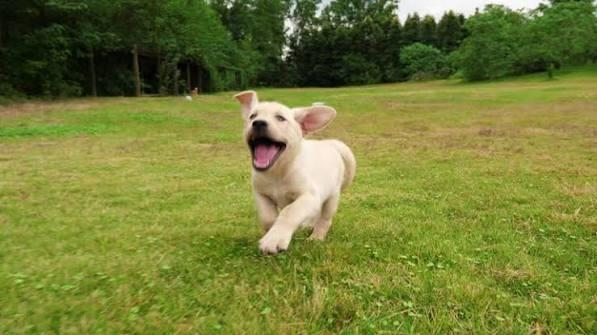puppy-dog: (235, 90, 358, 256)
